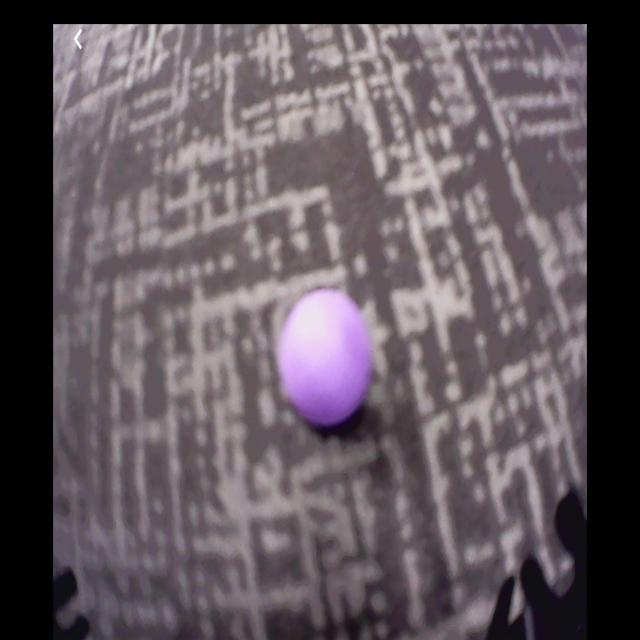ball: (282, 289, 375, 424)
